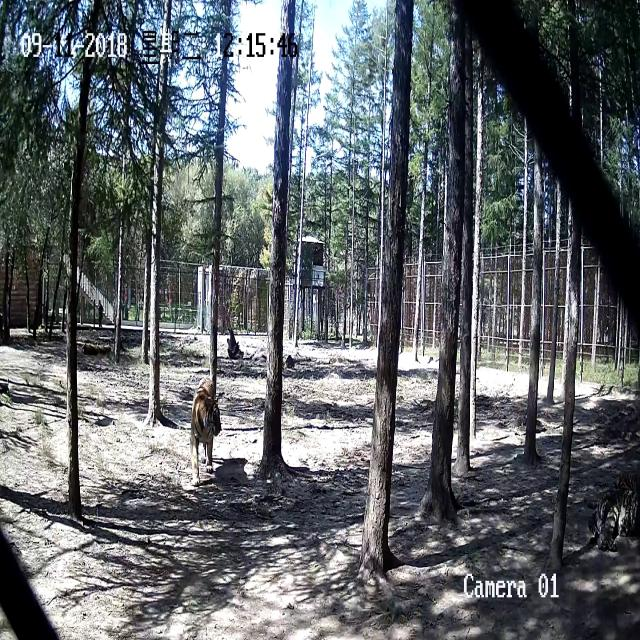Tiger: (185, 368, 225, 484)
